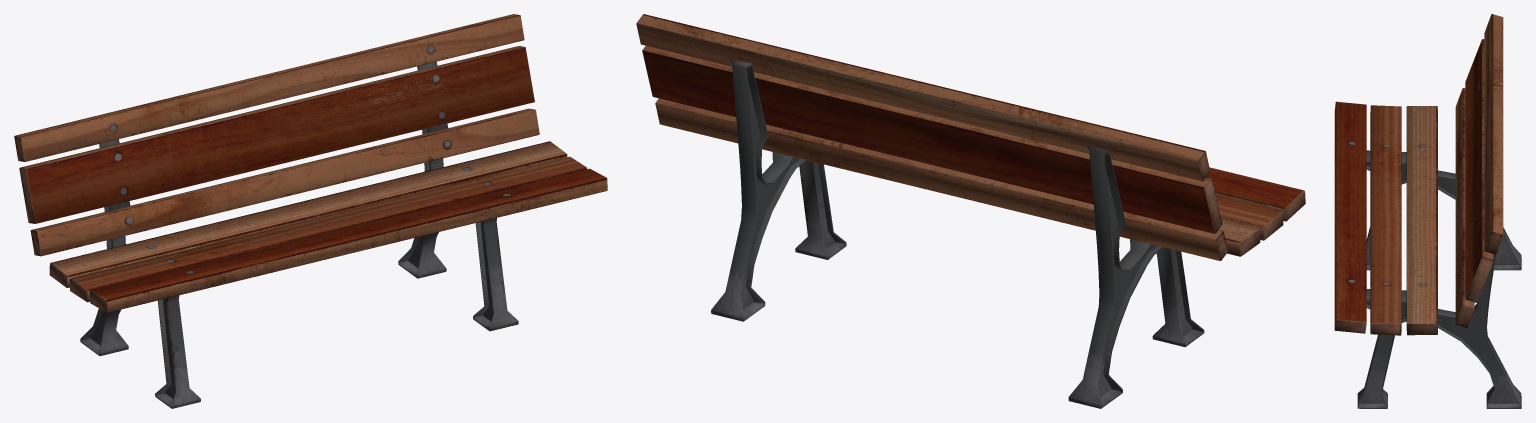
File: bench.glb
3 views of the same model, side by side, from view 1: azimuth 30°, elevation 25°; view 2: azimuth 150°, elevation 25°; view 3: azimuth 270°, elevation 25° (orthographic). The views are drawn at different scales.
Parts seen in each view (by area): view 1: defaultMaterial (×3); view 2: defaultMaterial (×3); view 3: defaultMaterial (×3).
Boxes of the visible parts, left/top/right/bottom form: defaultMaterial (×3): left=14, top=14, right=607, bottom=408; defaultMaterial (×3): left=636, top=14, right=1305, bottom=408; defaultMaterial (×3): left=1334, top=14, right=1521, bottom=408.
Size of the model in its own units: 2 by 0.8993 by 0.723.
3 materials, 3 textured.
